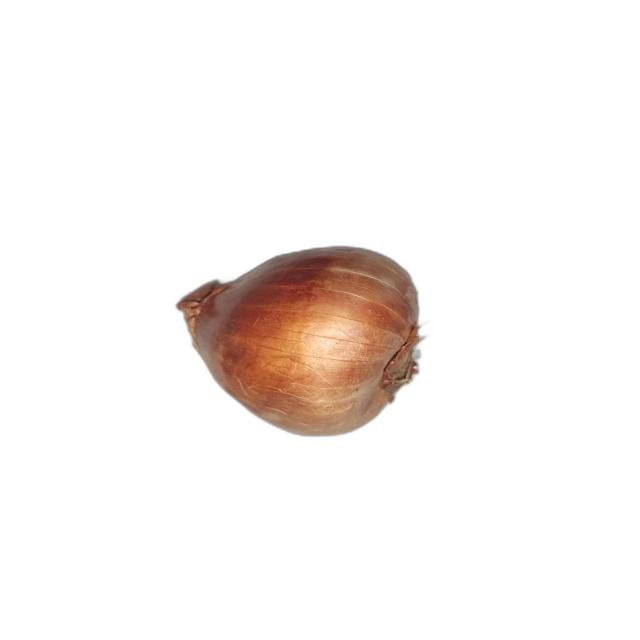onion: (176, 247, 422, 436)
